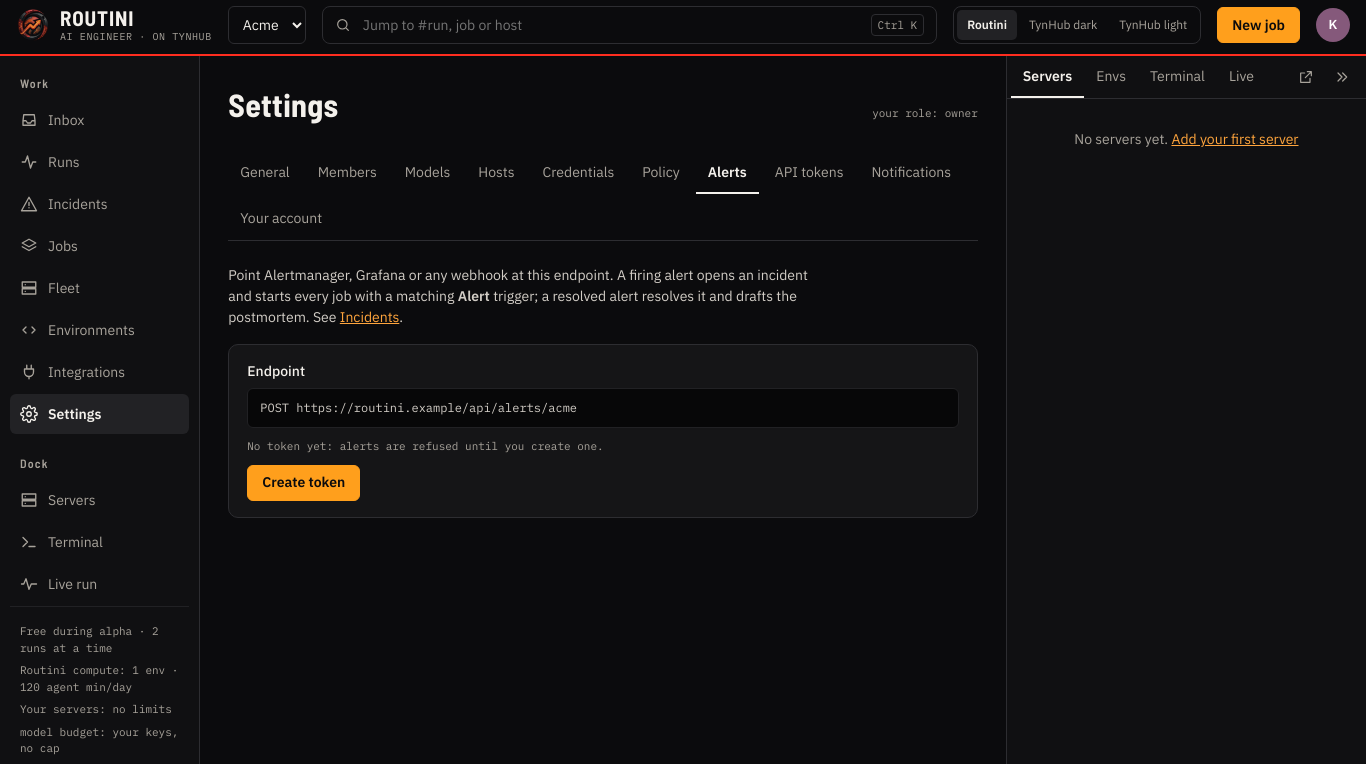
Test case: alert settings and alert-triggered jobs › creates an alert token and shows the Alertmanager config once
This screenshot has width=1366, height=764.
Expected: the text named "Alert endpoint" reads "POST https://routini.example/api/alerts/acme", [247,388,959,428]
Click the button "Create token": (304, 483) [247,465,360,501]
(page scrolled)
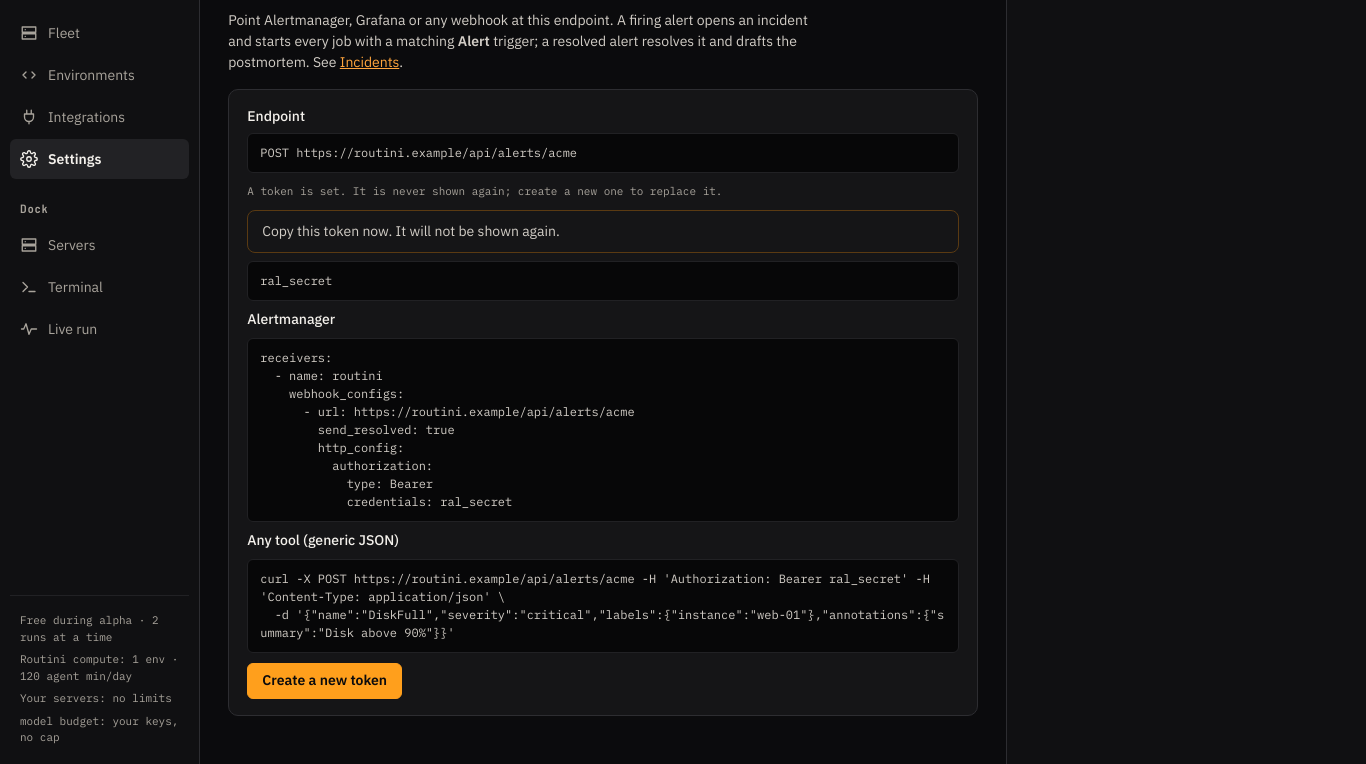
Now the text named "Alert token" reads "ral_secret", box [260,273,332,288]
Now the text "credentials: ral_secret" is shown, box [260,350,635,509]
